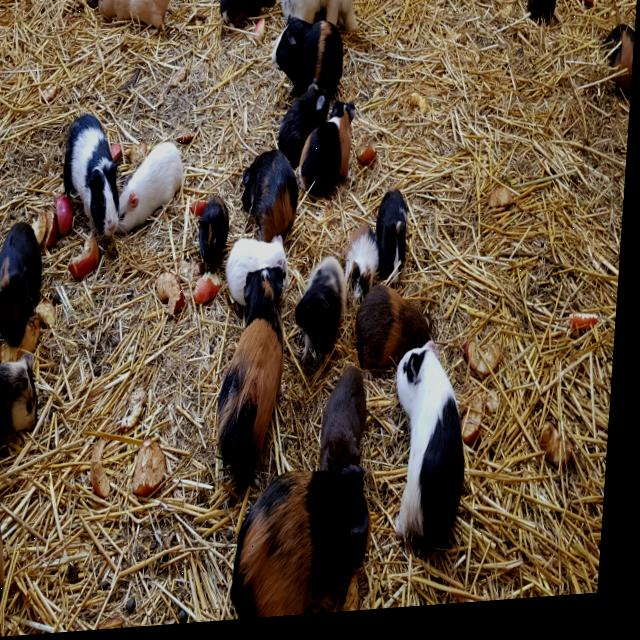guinea pig: (237, 467, 384, 624), (389, 343, 480, 564), (219, 265, 297, 479), (356, 279, 448, 385), (59, 107, 128, 245), (295, 246, 355, 375), (116, 136, 191, 239), (270, 12, 348, 108), (238, 148, 307, 254), (297, 102, 363, 206), (0, 212, 49, 352), (225, 232, 297, 318), (323, 371, 377, 483), (0, 356, 52, 462), (0, 398, 22, 640), (279, 83, 333, 155), (376, 191, 414, 291), (91, 0, 172, 43), (346, 225, 383, 314), (197, 195, 234, 275), (601, 29, 636, 111), (218, 0, 279, 34), (524, 0, 560, 36)
